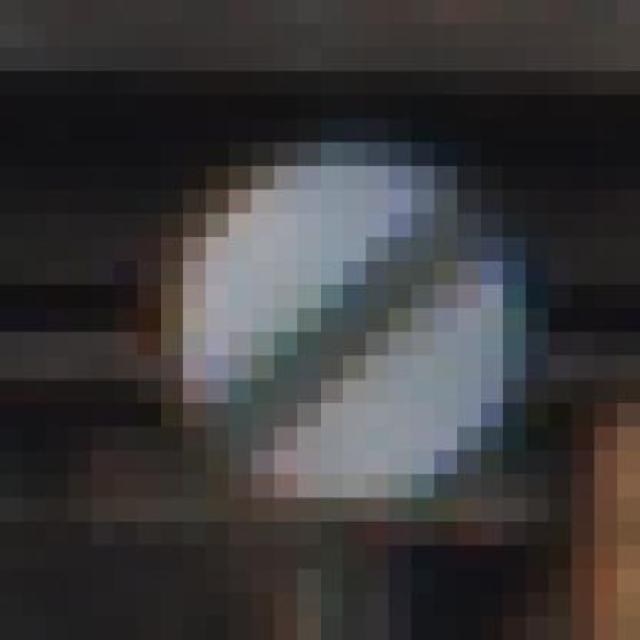End of all speed and passing limits: (114, 95, 549, 522)
